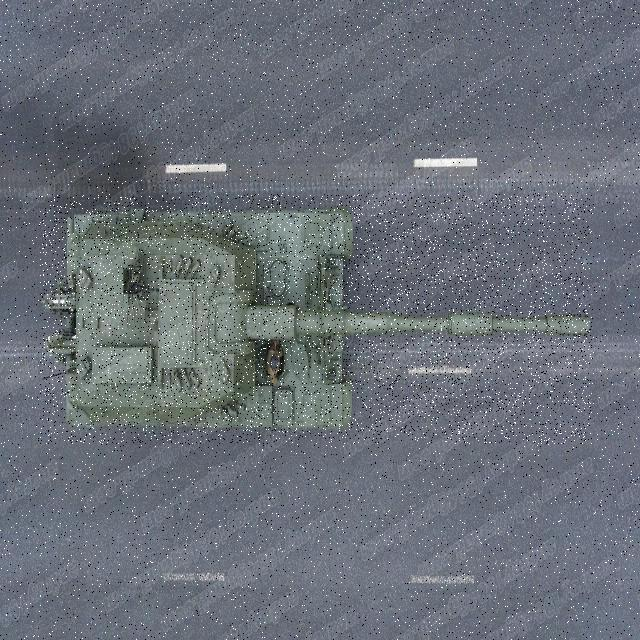MIL_MBT: (40, 194, 592, 444)
